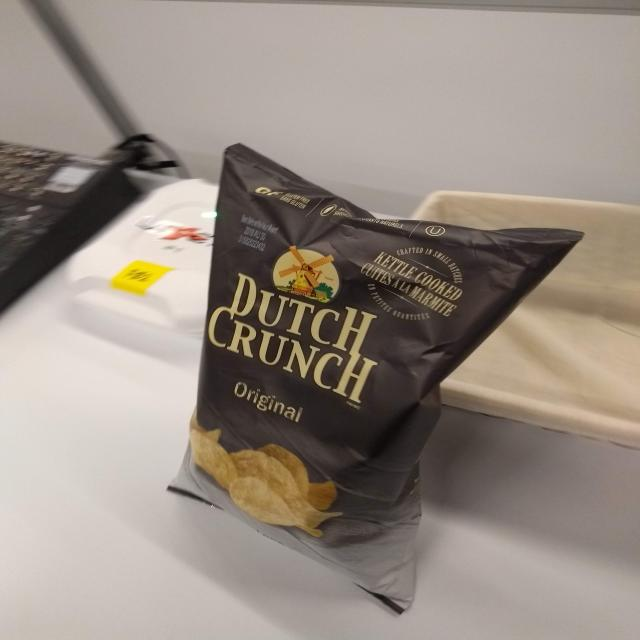potato_chips: (155, 137, 588, 618)
